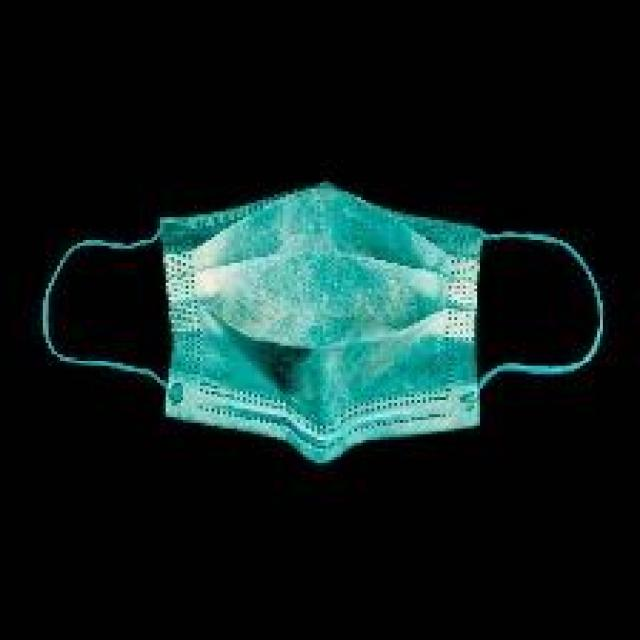Mask: (44, 183, 618, 464)
